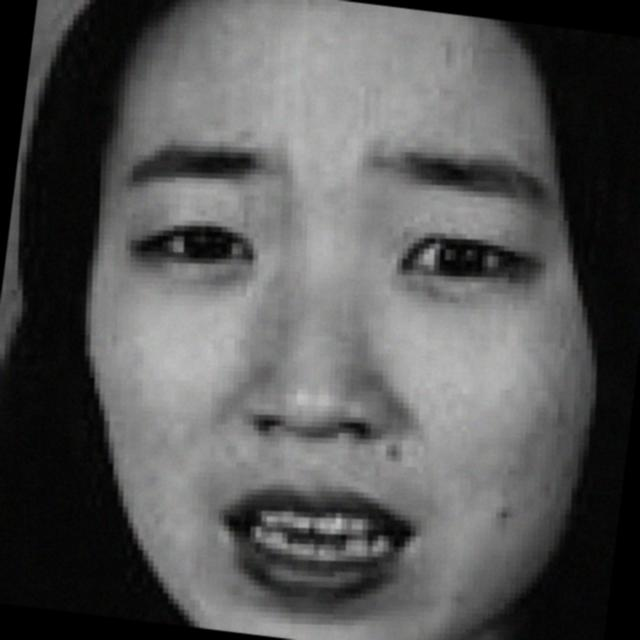fear: (54, 19, 596, 640)
